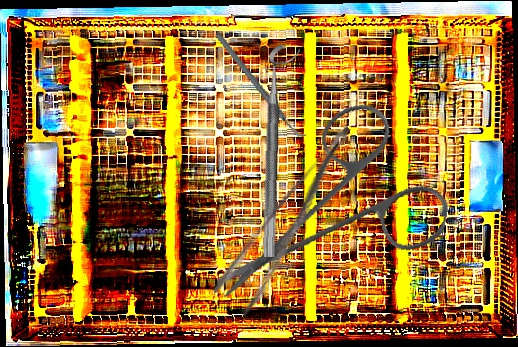Chopper: (214, 19, 308, 152)
Dressing Forceps: (208, 122, 380, 318)
Fixation Ring: (261, 45, 301, 258)
Iris Scissors: (214, 83, 465, 336)
